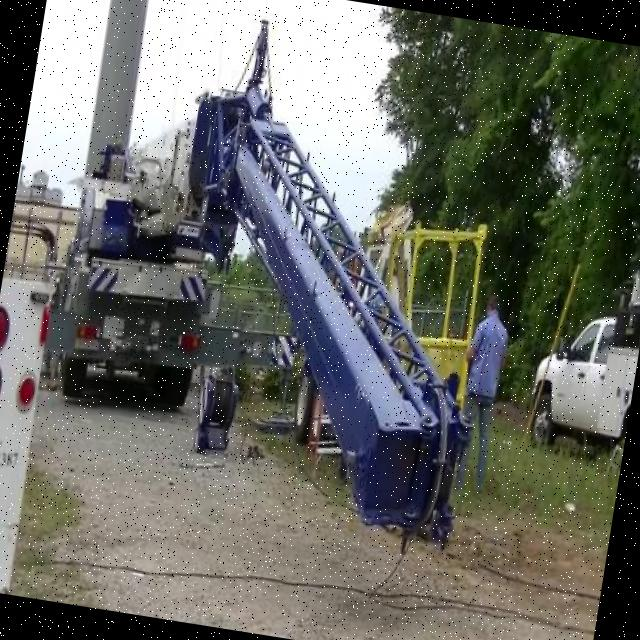Mobile Crane: (29, 0, 523, 533)
